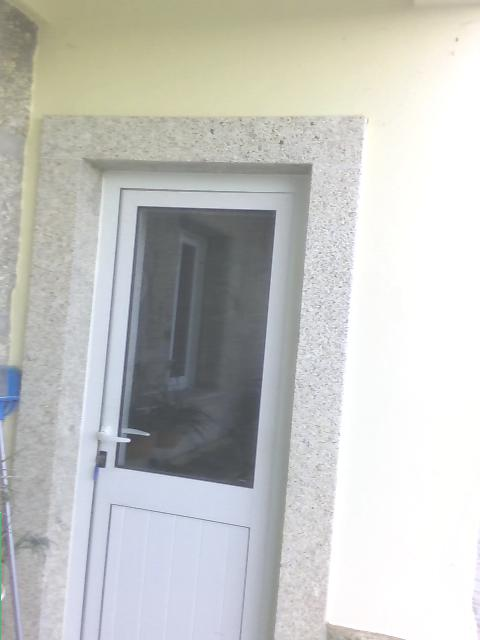closed_door: (59, 168, 311, 639)
